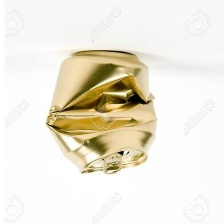can: (40, 43, 160, 180)
